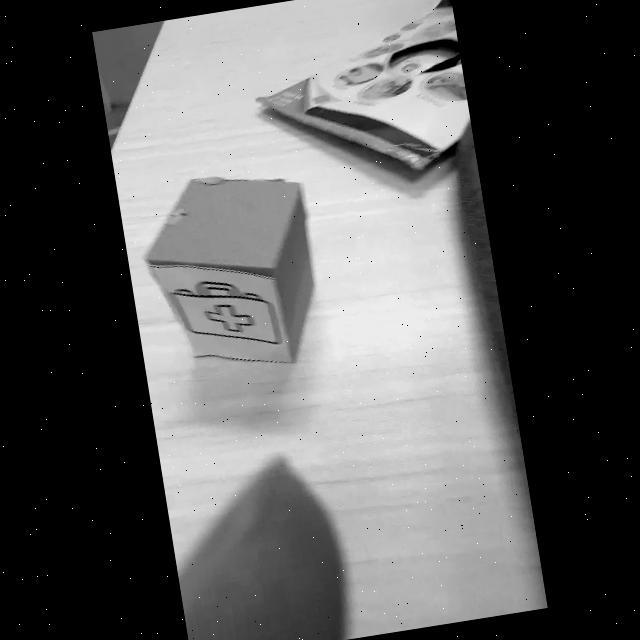Medkit: (172, 280, 282, 346)
